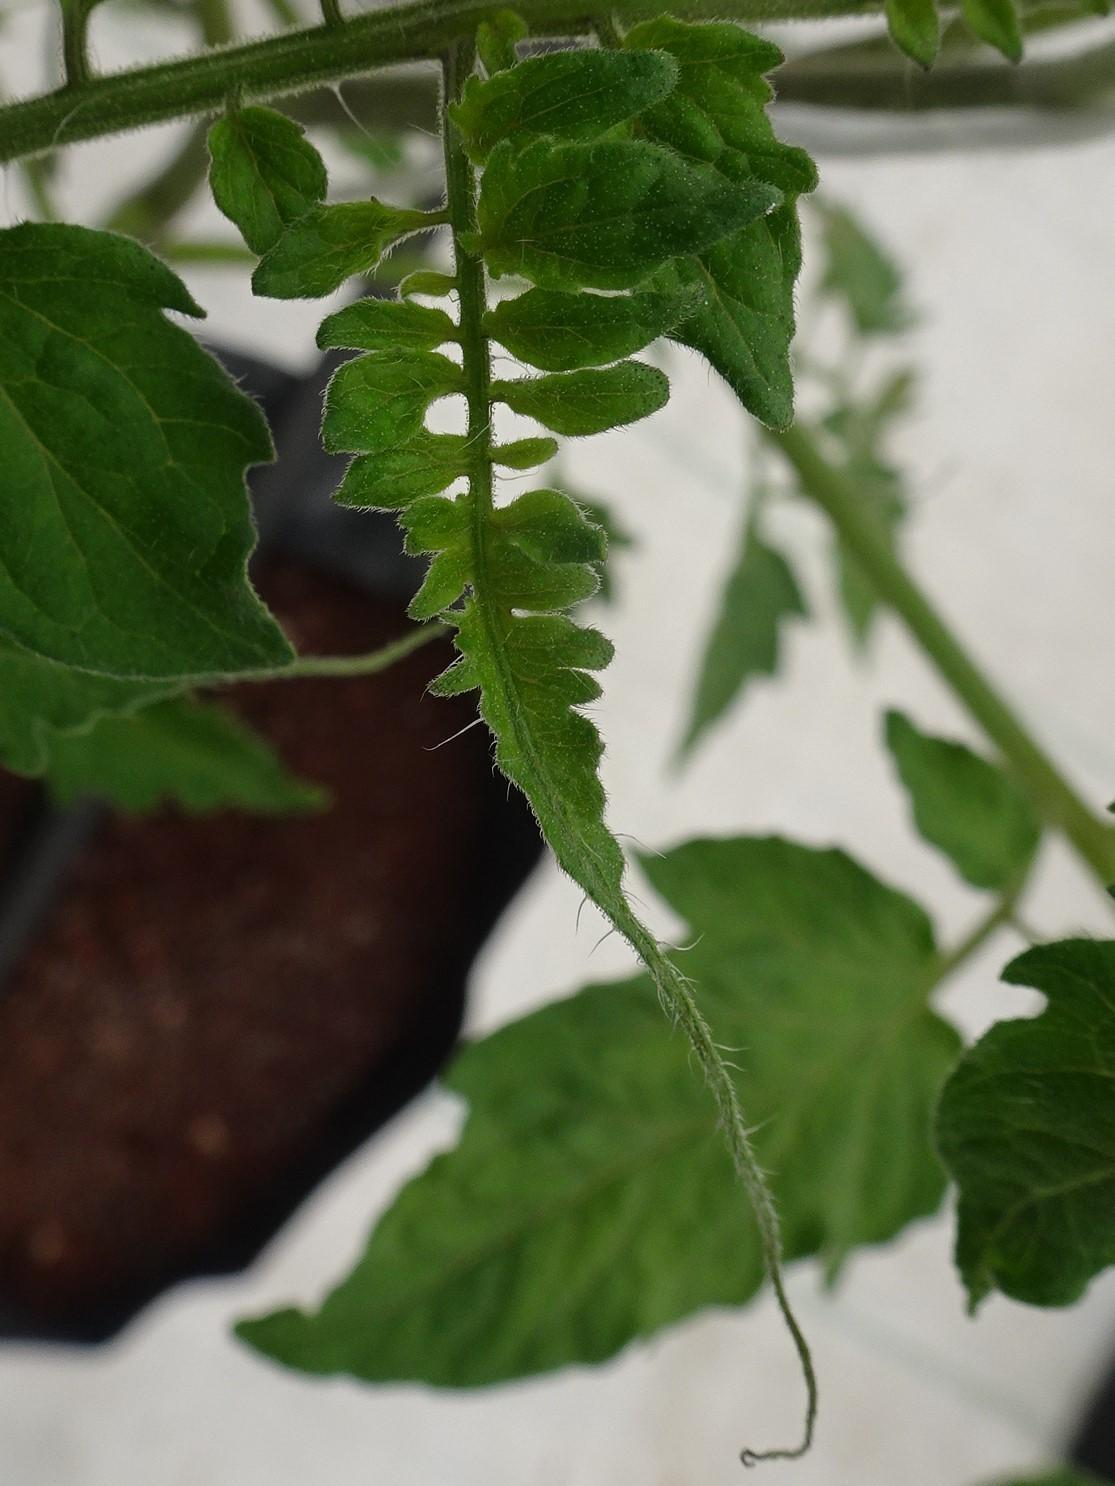Rugose leaf: (479, 139, 781, 290), (206, 108, 328, 255)
